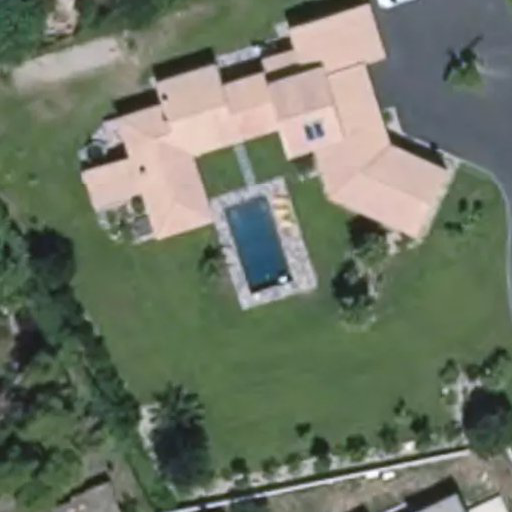pool: (220, 205, 291, 278)
